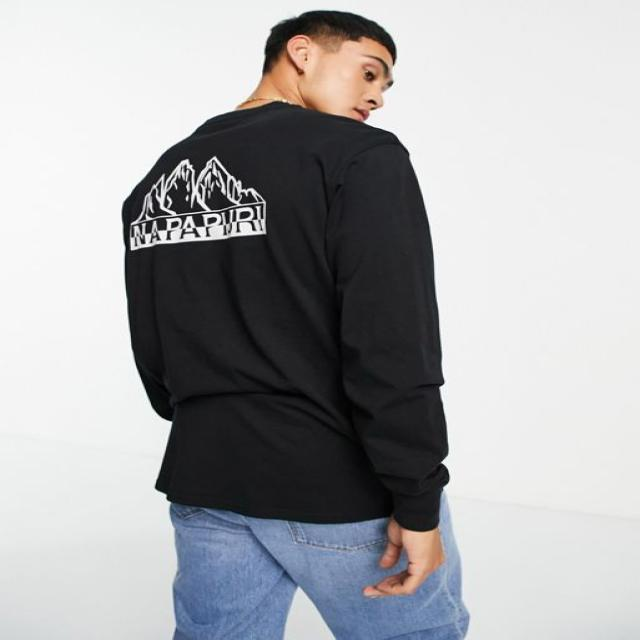tshirt: (118, 100, 453, 528)
